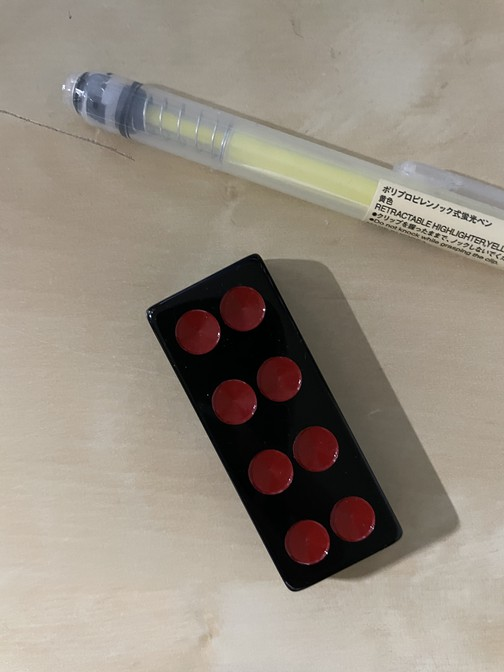man: (146, 254, 405, 592)
